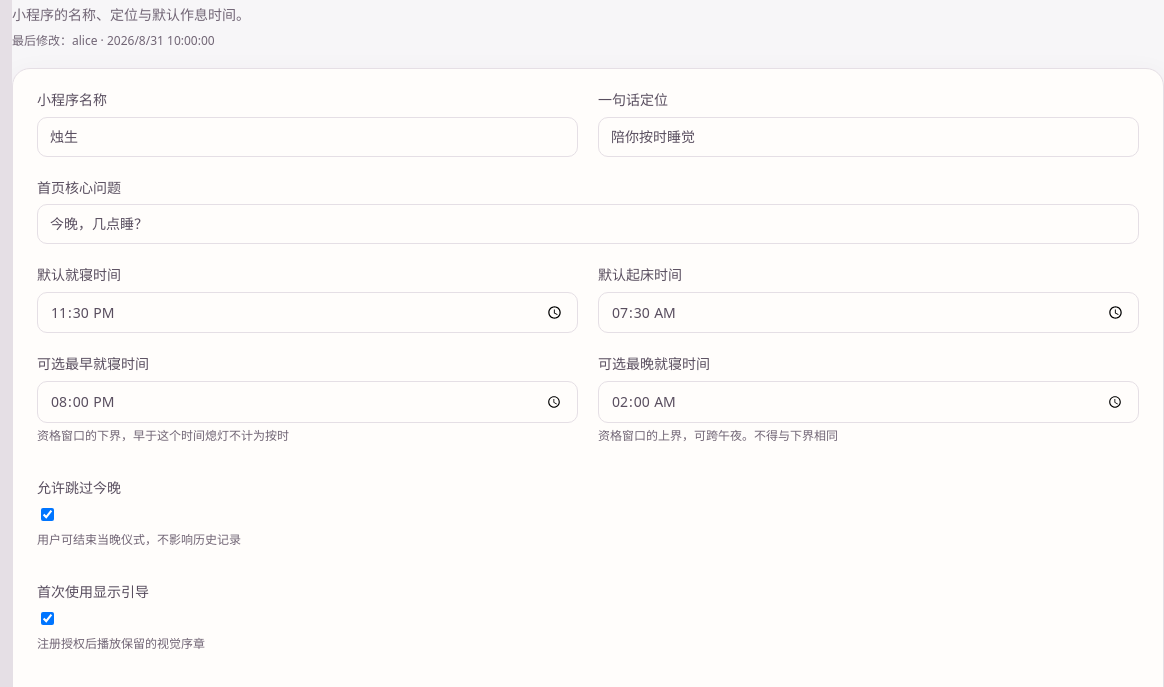
Test: 基础设置页 › 校验不过时在字段旁标红，不弹确认窗
This screenshot has width=1164, height=687.
Replace the text in the field labelled "小程序名称" with "x": (308, 137) [37,117,578,157]
(page scrolled)
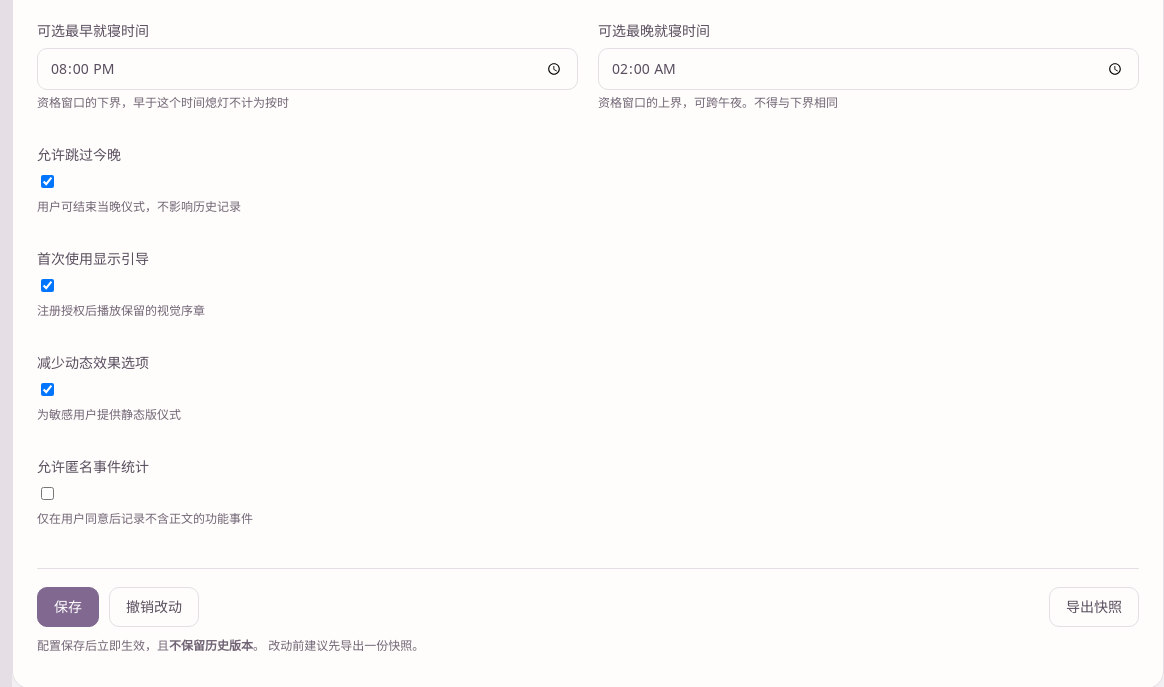
Click the button "保存": (68, 607) [37,587,99,627]
(page scrolled)
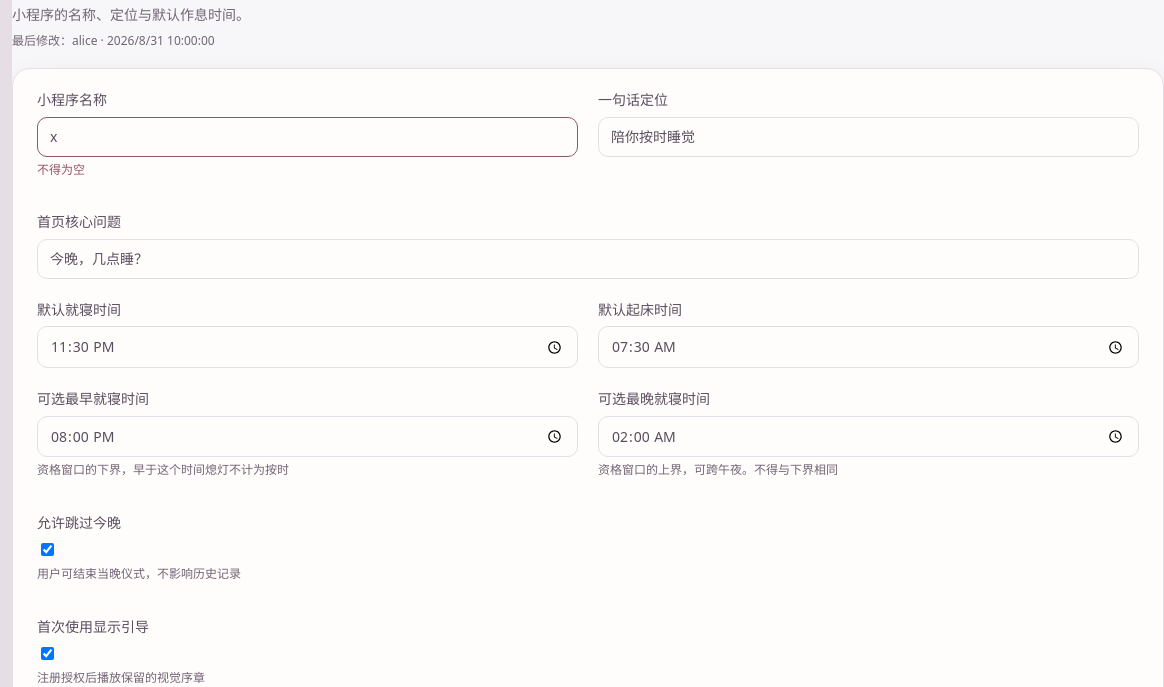
Expected: the text "不得为空" is shown, [37,161,85,178]
